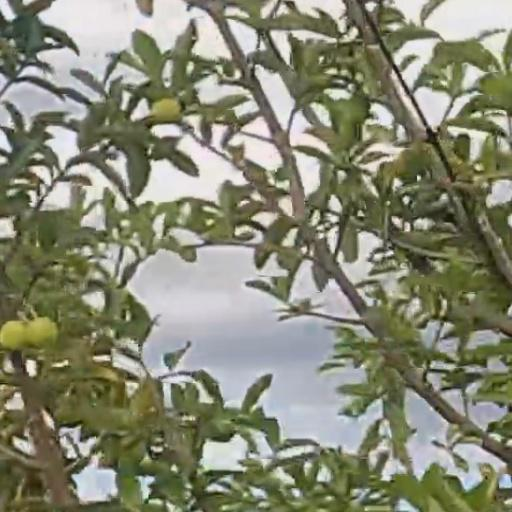acerola: (28, 320, 58, 345), (2, 320, 27, 347)
